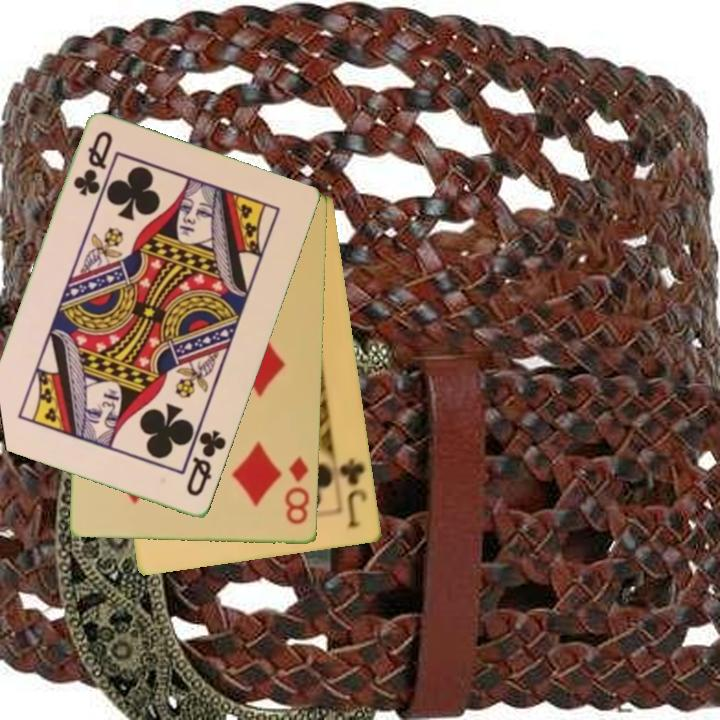8d: (281, 453, 313, 528)
Jc: (336, 455, 371, 531)
Qc: (183, 427, 230, 500), (70, 128, 116, 200)
